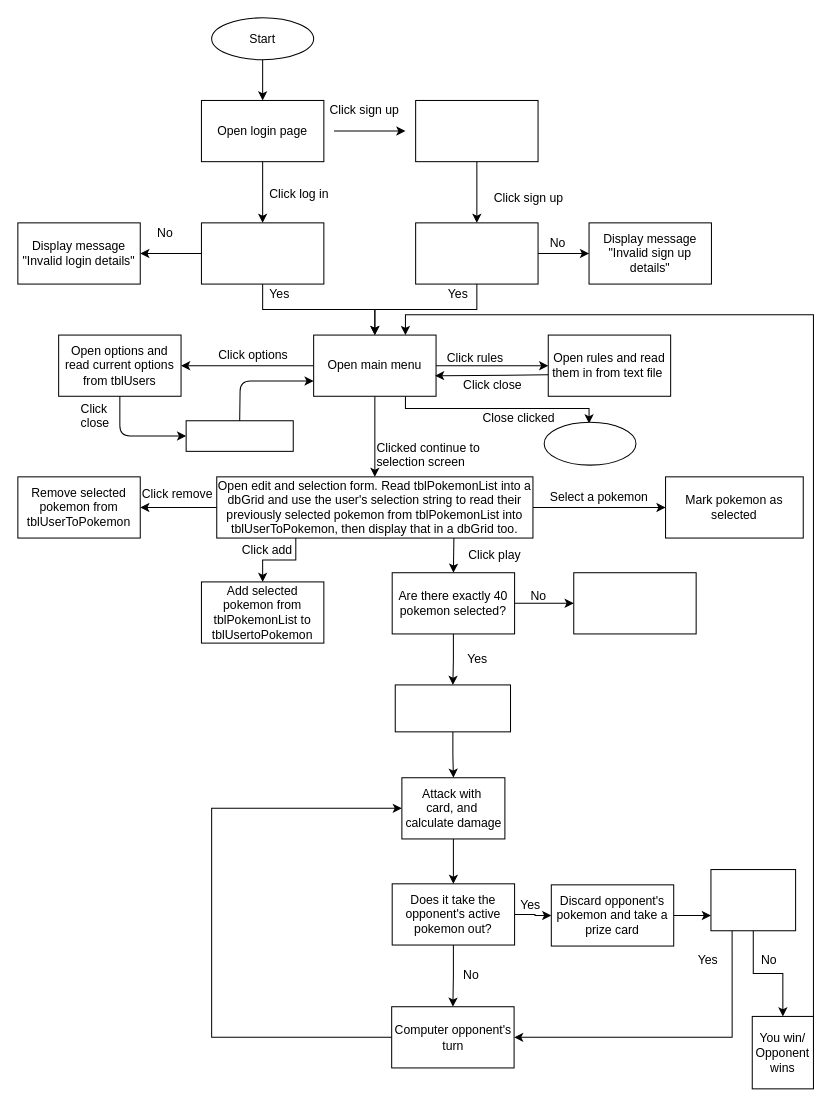
Some shapes in this 839 by 1107 pixel diagram are drawn without their labels. Each missing label, with the centre of its shape:
Close program: (589,443)
Display message "Incorrect amount selected": (634,603)
Do you have any prize cards left?: (753,900)
Is log in information valid?: (262,253)
Is sign up information valid?: (476,253)
Open game screen and set up the table: (452,708)
Open sign up page: (476,130)
Save options to database: (239,435)
